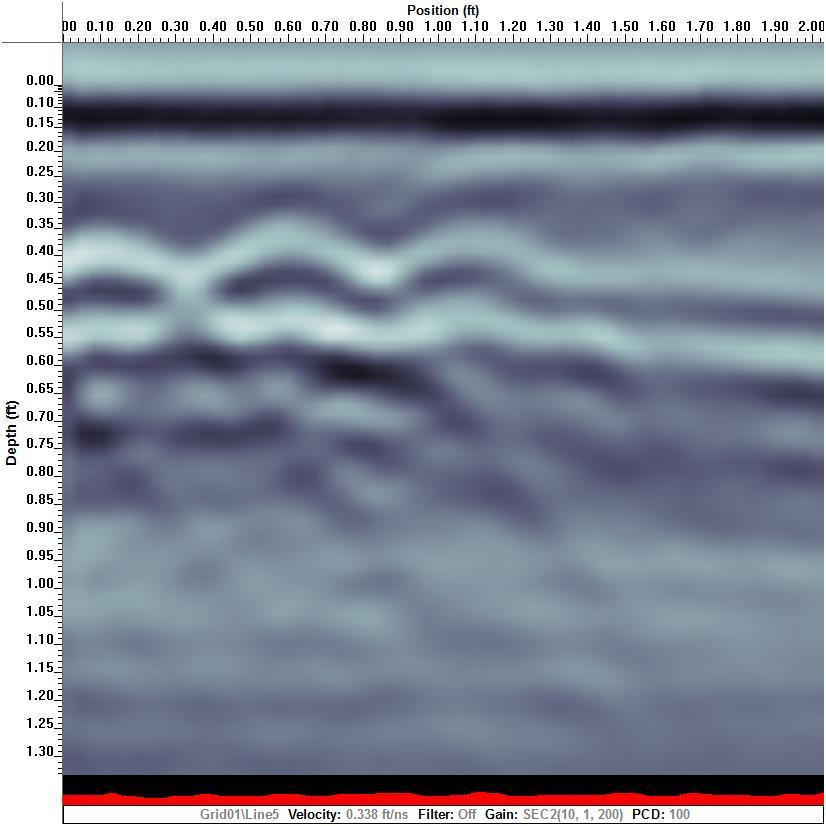hyperbola: (113, 212, 500, 482), (281, 211, 668, 481), (62, 221, 312, 485)
